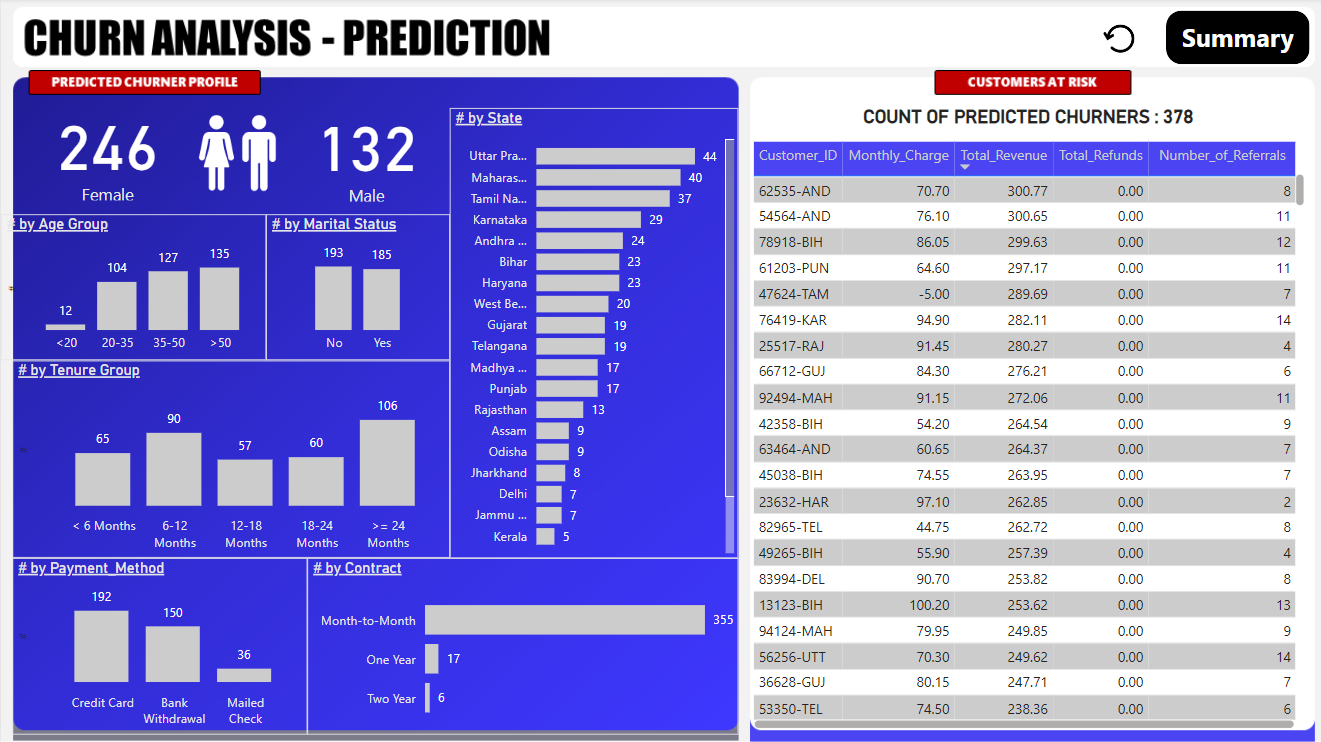

This screenshot's page, from the dashboard's own definition file:
{"tool":"powerbi","page":{"name":"Churn Prediction","canvas":[1280,720],"ordinal":2},"visuals":[{"type":"tableEx","fields":{"Values":["Predictions.Customer_ID","Predictions.Monthly_Charge","Predictions.Total_Revenue","Predictions.Total_Refunds","Predictions.Number_of_Referrals"]},"box":[720,133.9,542.7,576.5],"z":0},{"type":"card","fields":{"Values":["tbl_Measures.Title Predicted Churners"]},"box":[811.7,95.3,359.4,38.6],"z":1000},{"type":"card","fields":{"Values":["tbl_Measures.Count Predicted Churner"]},"box":[21.7,95.3,162.8,104.9],"z":2000},{"type":"card","fields":{"Values":["tbl_Measures.Count Predicted Churner"]},"box":[272.6,96.5,160.4,104.9],"z":3000},{"type":"clusteredColumnChart","fields":{"Category":["mapping_AgeGrp.Age Group"],"Y":["CountNonNull(Predictions.Customer_ID)"]},"box":[0,208.6,255.7,141.1],"z":4000},{"type":"clusteredColumnChart","fields":{"Category":["Predictions.Married"],"Y":["CountNonNull(Predictions.Customer_ID)"]},"box":[255.7,208.6,177.3,141.1],"z":5000},{"type":"clusteredColumnChart","fields":{"Y":["CountNonNull(Predictions.Customer_ID)"],"Category":["mapping_TenureGrp.Tenure Group"]},"box":[10.9,349.7,422.1,190.6],"z":6000},{"type":"clusteredColumnChart","fields":{"Y":["CountNonNull(Predictions.Customer_ID)"],"Category":["Predictions.Payment_Method"]},"box":[10.9,540.3,284.6,170.1],"z":7000},{"type":"clusteredBarChart","fields":{"Category":["Predictions.Contract"],"Y":["CountNonNull(Predictions.Customer_ID)"]},"box":[295.5,540.3,416.1,161.6],"z":8000},{"type":"clusteredBarChart","fields":{"Category":["Predictions.State"],"Y":["CountNonNull(Predictions.Customer_ID)"]},"box":[433,106.1,278.6,434.2],"z":8001},{"type":"image","box":[167,97.7,123,102.5],"z":8002},{"type":"shape","box":[1124,12.1,138.7,51.9],"z":8003},{"type":"image","box":[1045.6,18.1,66.3,41],"z":8004}]}

Visuals, with their boxes in screenshot pixels (x1, y1, x2, y2), scaled from the page's 1280x720 canvas onto the 1321x742 screenshot:
tableEx - Predictions.Customer_ID x Predictions.Monthly_Charge: l=743, t=138, r=1303, b=732
card - tbl_Measures.Title Predicted Churners: l=838, t=98, r=1209, b=138
card - tbl_Measures.Count Predicted Churner: l=22, t=98, r=190, b=206
card - tbl_Measures.Count Predicted Churner: l=281, t=99, r=447, b=208
clusteredColumnChart - mapping_AgeGrp.Age Group x CountNonNull(Predictions.Customer_ID): l=0, t=215, r=264, b=360
clusteredColumnChart - Predictions.Married x CountNonNull(Predictions.Customer_ID): l=264, t=215, r=447, b=360
clusteredColumnChart - CountNonNull(Predictions.Customer_ID) x mapping_TenureGrp.Tenure Group: l=11, t=360, r=447, b=557
clusteredColumnChart - CountNonNull(Predictions.Customer_ID) x Predictions.Payment_Method: l=11, t=557, r=305, b=732
clusteredBarChart - Predictions.Contract x CountNonNull(Predictions.Customer_ID): l=305, t=557, r=734, b=723
clusteredBarChart - Predictions.State x CountNonNull(Predictions.Customer_ID): l=447, t=109, r=734, b=557
image: l=172, t=101, r=299, b=206
shape: l=1160, t=12, r=1303, b=66
image: l=1079, t=19, r=1148, b=61
